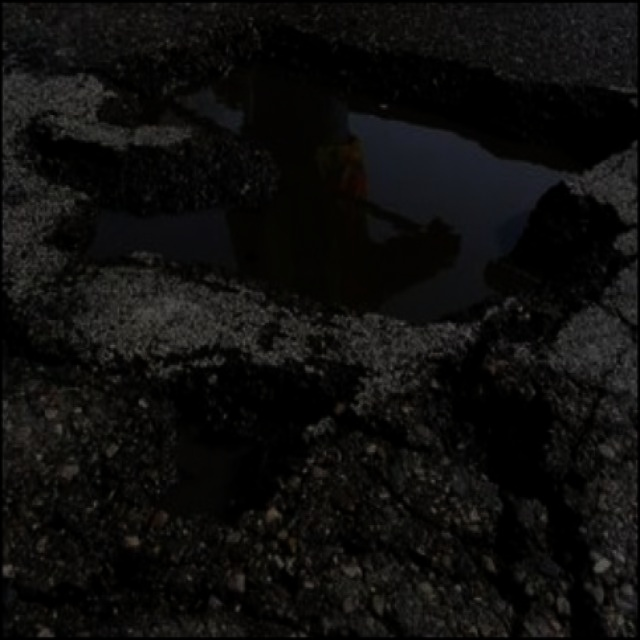Pothole: (35, 16, 638, 330), (131, 340, 371, 525)
